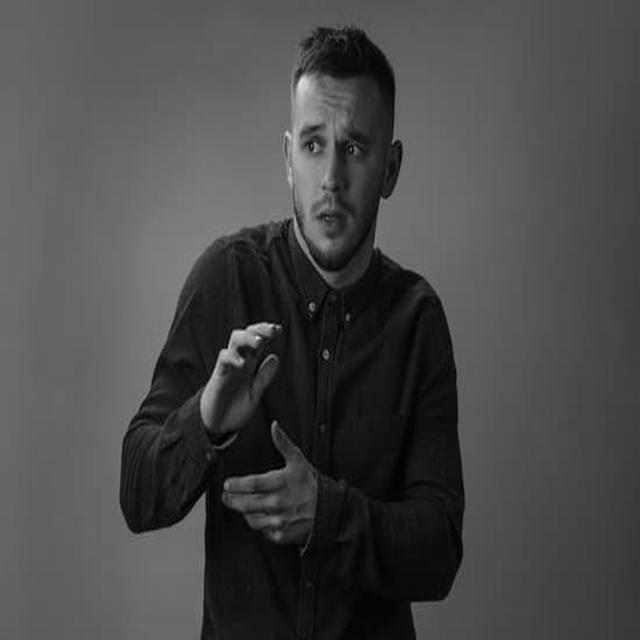Fear: (294, 74, 380, 272)
